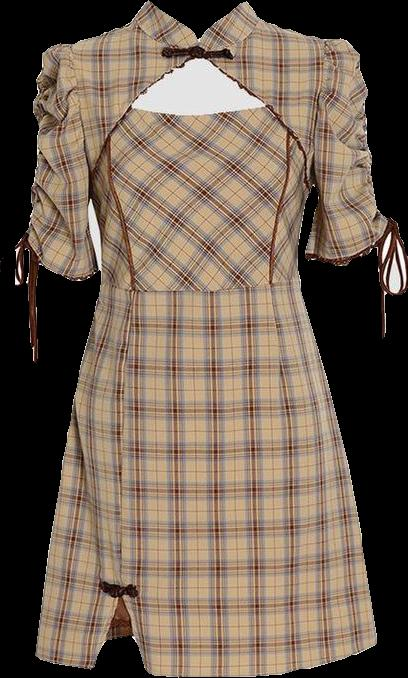Bodice: (70, 1, 328, 295)
Hemline: (88, 634, 380, 677), (34, 586, 153, 673)
Neckline: (197, 48, 314, 186), (88, 47, 201, 177), (146, 0, 251, 47), (129, 102, 274, 118)
Skirt: (36, 283, 376, 676)
Sleeve: (296, 38, 390, 274), (24, 43, 95, 280)
Sleeveline: (309, 40, 332, 181), (70, 45, 93, 178)
Waistline: (97, 278, 302, 301)
